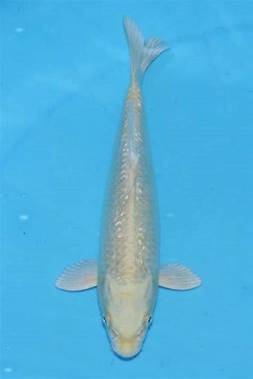white: (55, 15, 202, 360)
